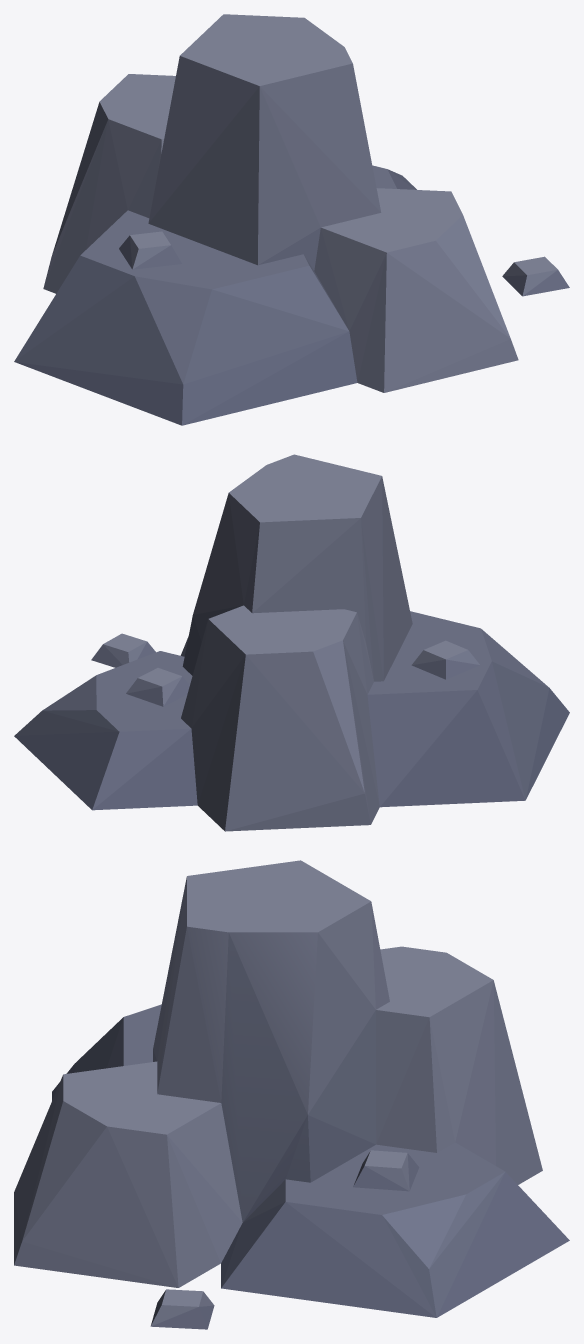
File: rock-b.glb
3 renders of one model, top to bottom at view 1: azimuth 30°, elevation 25°; view 2: azimuth 150°, elevation 25°; view 3: azimuth 270°, elevation 25°, orthographic. The views are drawn at different scales.
Visible parts, largest first — view 1: c747990, c777c94, c81869c, c71768d, c636980, c7a7f97, c5c627a, c6a7087, c6e738a, c676c84, c7d829a, c60657d; view 2: c777c94, c60657d, c81869c, c676c84, c6e738a, c7d829a, c747990, c7a7f97, c636980, c71768d, c6a7087, c5c627a; view 3: c747990, c81869c, c6a7087, c777c94, c60657d, c7a7f97, c7d829a, c6e738a, c636980, c676c84, c71768d.
Part boxes in pixels (bbox=[...]): c747990: bbox=[43, 87, 557, 392]; c777c94: bbox=[43, 56, 386, 382]; c81869c: bbox=[99, 14, 557, 275]; c71768d: bbox=[148, 86, 518, 392]; c636980: bbox=[14, 169, 416, 384]; c7a7f97: bbox=[52, 102, 510, 338]; c5c627a: bbox=[15, 332, 357, 425]; c6a7087: bbox=[135, 255, 348, 383]; c6e738a: bbox=[80, 165, 396, 289]; c676c84: bbox=[14, 169, 569, 361]; c7d829a: bbox=[108, 119, 386, 330]; c60657d: bbox=[182, 331, 348, 425]; c777c94: bbox=[191, 476, 383, 831]; c60657d: bbox=[14, 690, 525, 810]; c81869c: bbox=[103, 454, 467, 686]; c676c84: bbox=[91, 642, 525, 809]; c6e738a: bbox=[96, 611, 491, 831]; c7d829a: bbox=[191, 493, 373, 727]; c747990: bbox=[103, 493, 479, 830]; c7a7f97: bbox=[181, 613, 373, 792]; c636980: bbox=[14, 615, 549, 799]; c71768d: bbox=[361, 477, 412, 681]; c6a7087: bbox=[42, 605, 547, 731]; c5c627a: bbox=[526, 688, 569, 799]; c747990: bbox=[14, 881, 542, 1326]; c81869c: bbox=[63, 860, 492, 1306]; c6a7087: bbox=[107, 932, 504, 1268]; c777c94: bbox=[157, 877, 495, 1262]; c60657d: bbox=[52, 1064, 569, 1317]; c7a7f97: bbox=[22, 1018, 454, 1287]; c7d829a: bbox=[318, 901, 493, 1143]; c6e738a: bbox=[123, 1004, 504, 1214]; c636980: bbox=[74, 1017, 504, 1317]; c676c84: bbox=[151, 1049, 436, 1329]; c71768d: bbox=[14, 878, 186, 1287].
Bounding box in the file's own units: 0.8346 × 0.4186 × 0.7247.
